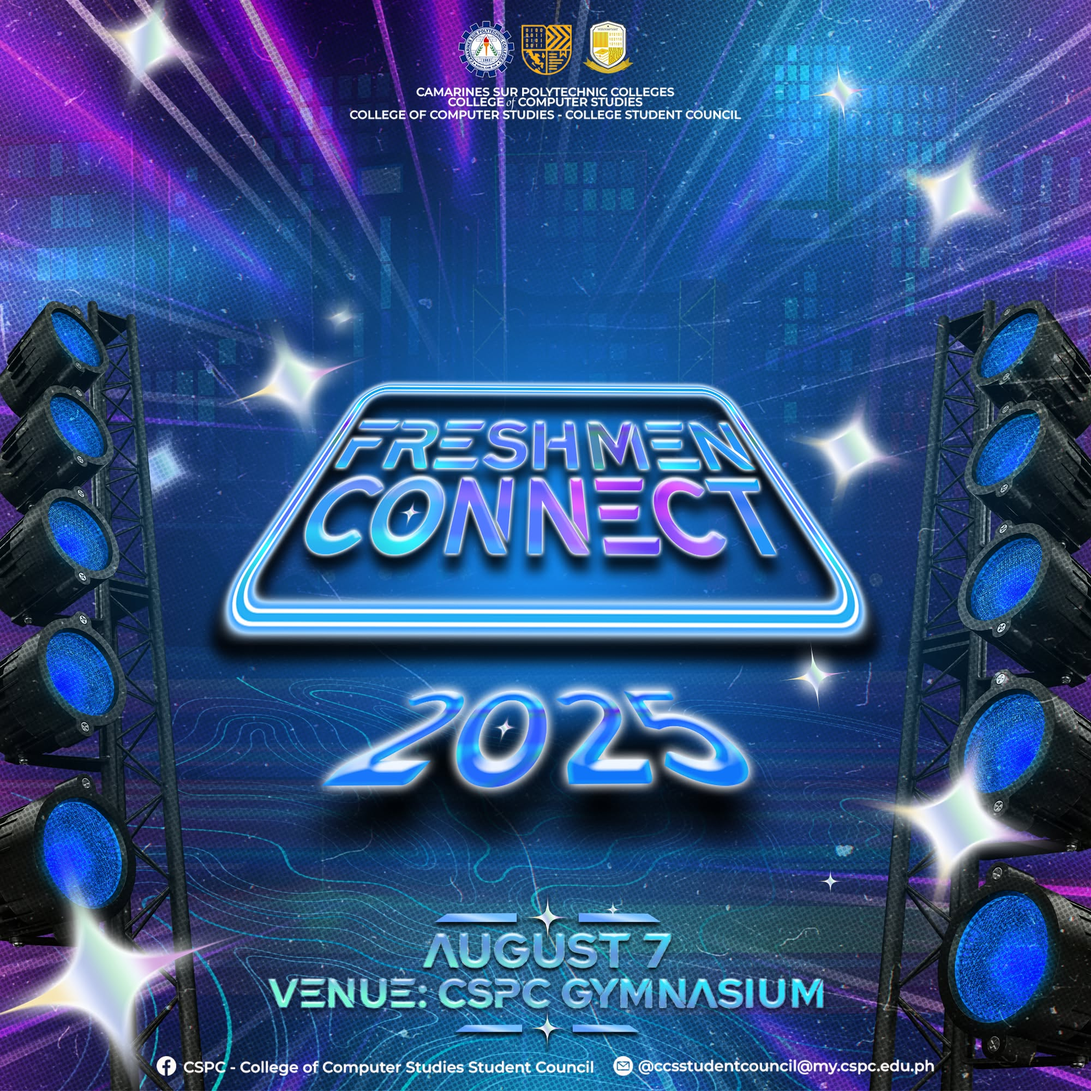embellishment: (1, 910, 202, 1079), (876, 769, 1021, 892), (225, 336, 352, 432), (796, 399, 900, 493), (907, 153, 998, 248), (113, 7, 194, 83), (789, 654, 842, 700), (815, 69, 864, 117), (527, 899, 568, 942), (529, 1014, 564, 1046), (816, 867, 842, 892)
logo: (457, 20, 517, 79), (519, 23, 574, 77), (585, 20, 630, 74)
text: (325, 688, 751, 788), (302, 476, 778, 556), (335, 418, 756, 472), (268, 978, 824, 1008), (422, 932, 672, 969), (183, 1060, 595, 1076), (637, 1059, 934, 1076), (349, 109, 741, 121), (416, 85, 674, 97), (447, 97, 643, 108)
underlay: (214, 379, 872, 651), (432, 910, 663, 924), (441, 1023, 656, 1038)
